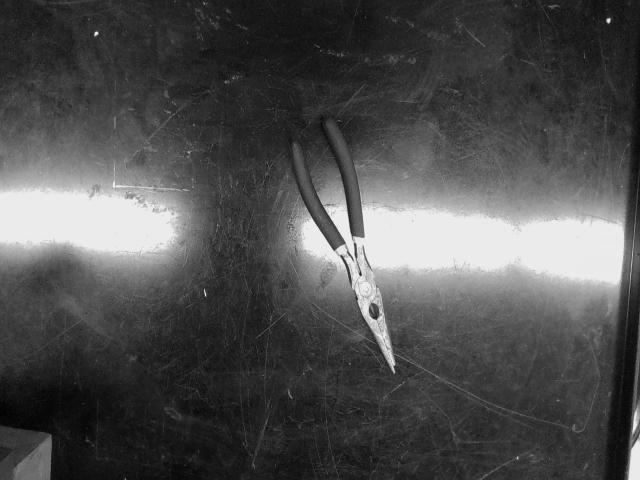Needle-nose pliers: (290, 117, 395, 373)
